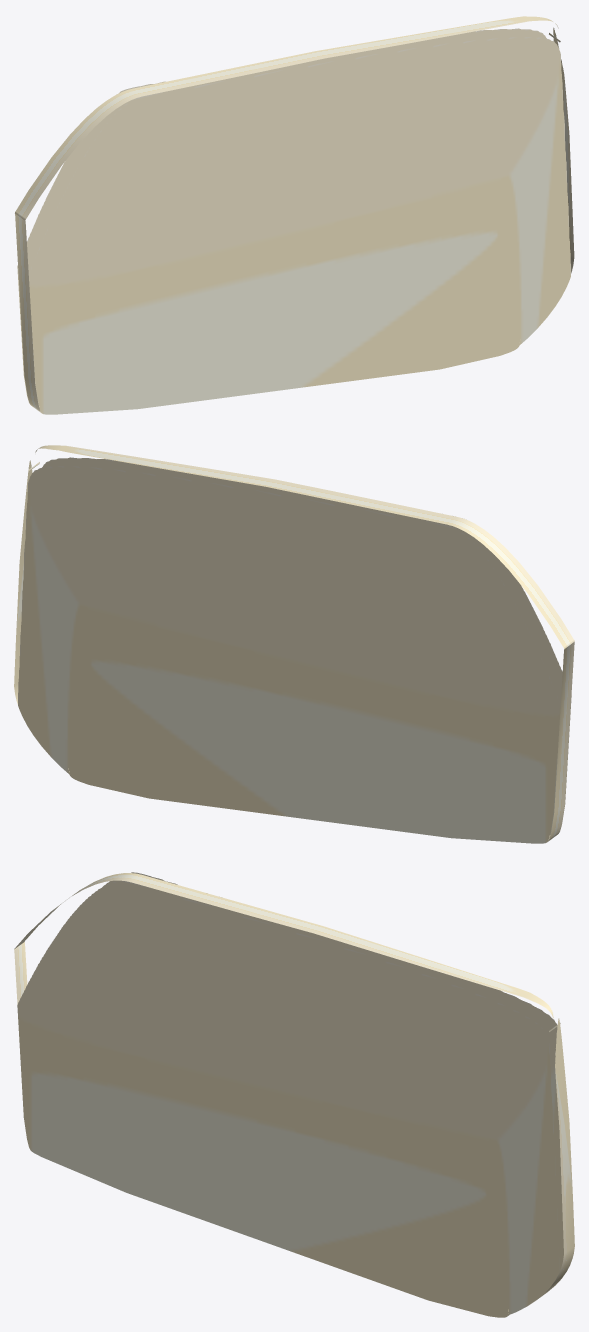
Rendered from tofu.fbx.
3 views of the same model, one above another, from view 1: azimuth 30°, elevation 25°; view 2: azimuth 150°, elevation 25°; view 3: azimuth 330°, elevation 25° (orthographic).
Visible parts, largest first — view 1: tofu; view 2: tofu; view 3: tofu.
Boxes of the visible parts, left/top/right/bottom form: tofu: left=15, top=16, right=574, bottom=414; tofu: left=14, top=445, right=574, bottom=843; tofu: left=14, top=872, right=574, bottom=1317.
Size of the model in its own units: 9.7 by 5.85 by 0.3528.
1 material, 1 textured.
